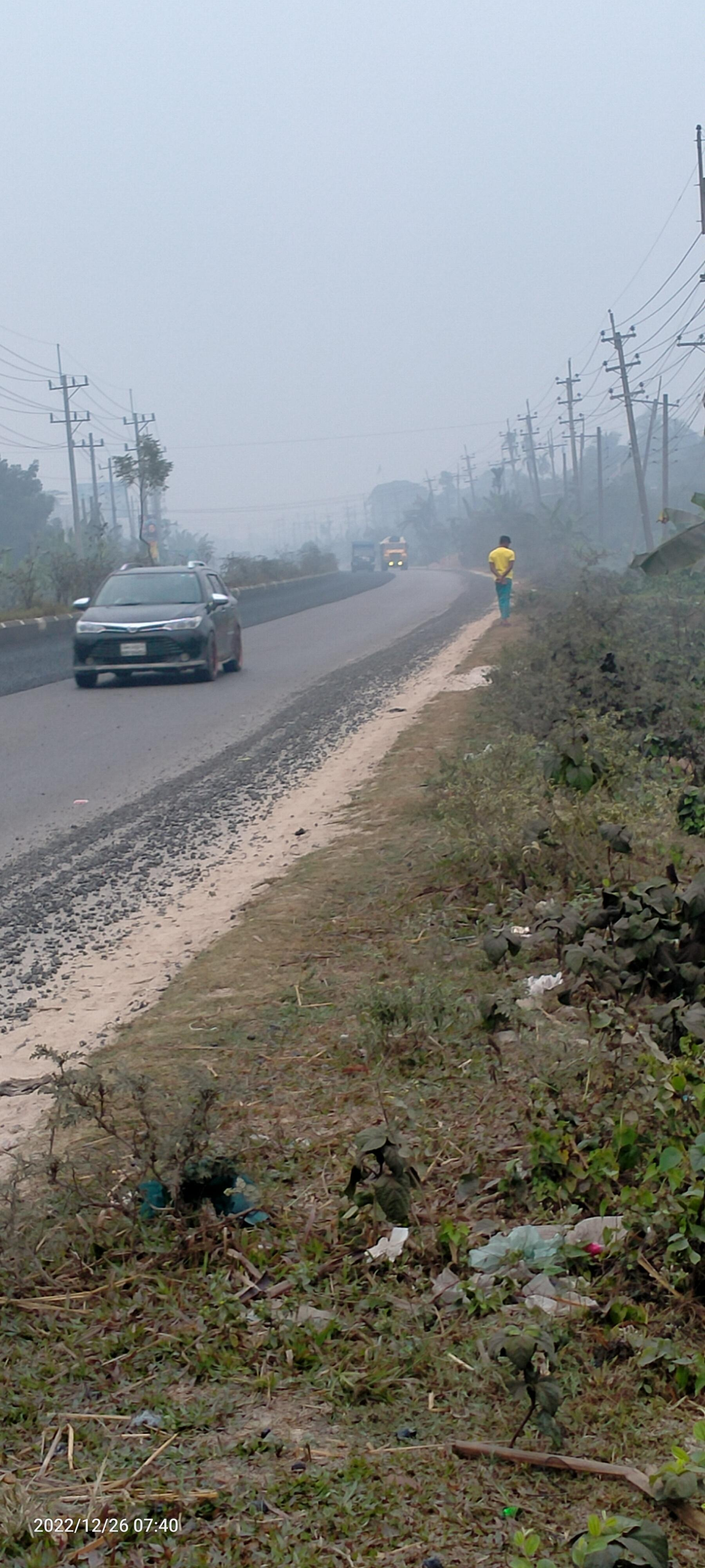Car: (59, 533, 253, 703)
Truck: (374, 529, 417, 577), (347, 537, 384, 575)
